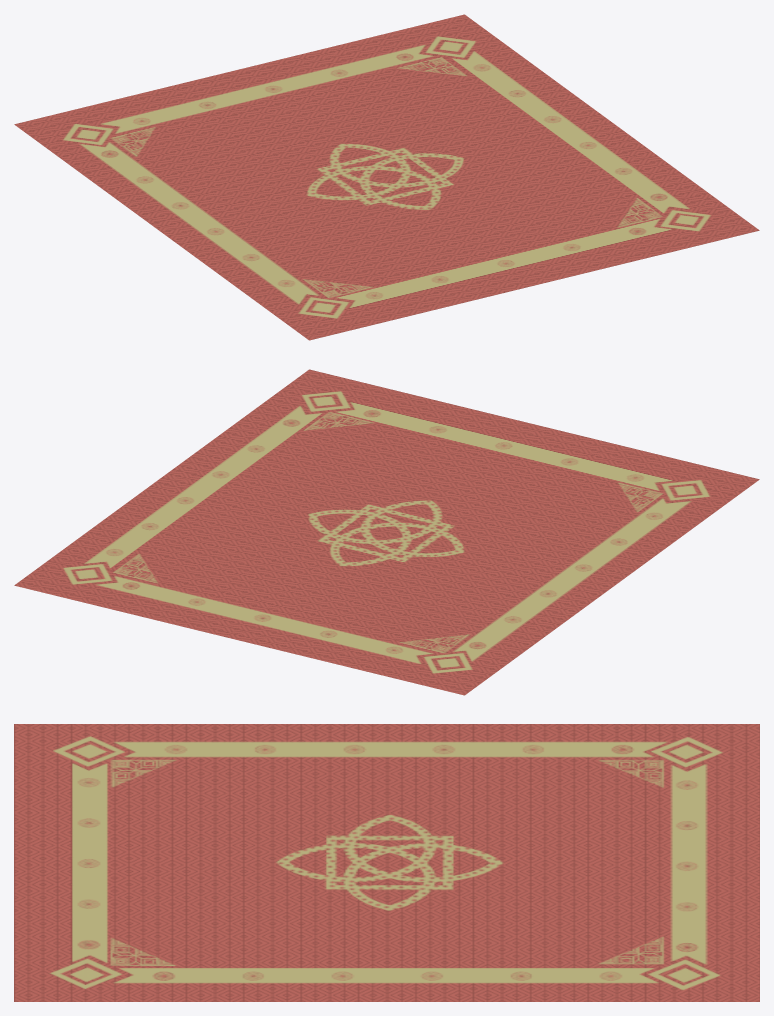
File: carpet_06.fbx
3 renders of one model, top to bottom at view 1: azimuth 30°, elevation 25°; view 2: azimuth 150°, elevation 25°; view 3: azimuth 270°, elevation 25°, orthographic. The views are drawn at different scales.
Visible parts, largest first — view 1: pPlane9; view 2: pPlane9; view 3: pPlane9.
Part boxes in pixels (bbox=[...]): pPlane9: bbox=[14, 14, 759, 340]; pPlane9: bbox=[14, 369, 759, 695]; pPlane9: bbox=[14, 724, 759, 1001].
Bounding box in the file's own units: 447 × 1.29e-06 × 507.
